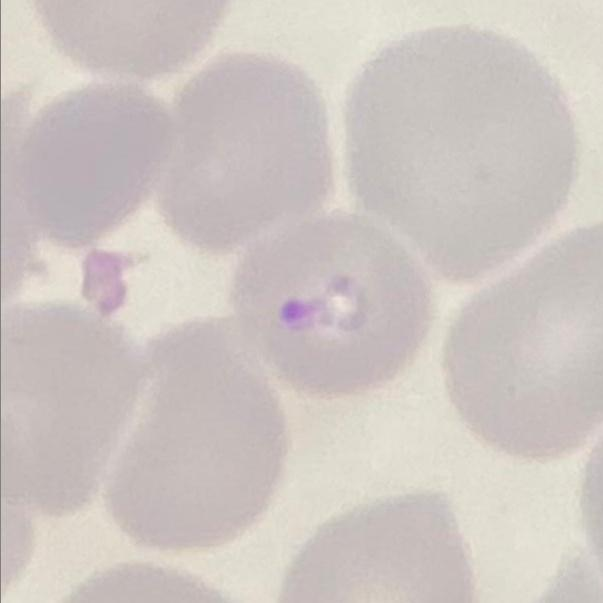Infected: (231, 214, 435, 398)
Uninfected: (346, 27, 578, 277), (104, 320, 289, 548), (447, 225, 603, 459), (158, 51, 334, 248), (0, 302, 139, 517), (29, 80, 174, 252), (282, 492, 478, 603)
